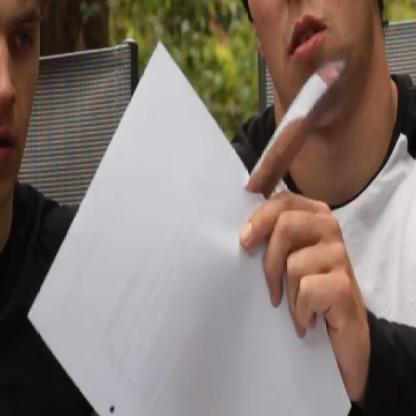knife: (236, 40, 361, 207)
